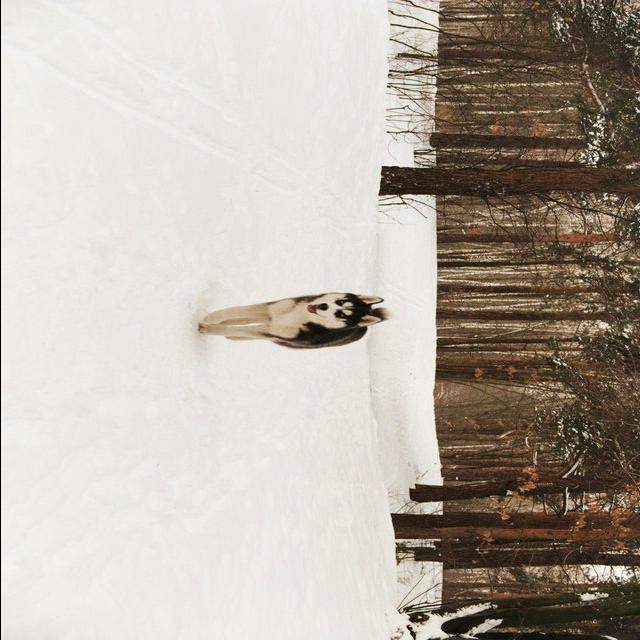husky: (197, 292, 391, 351)
